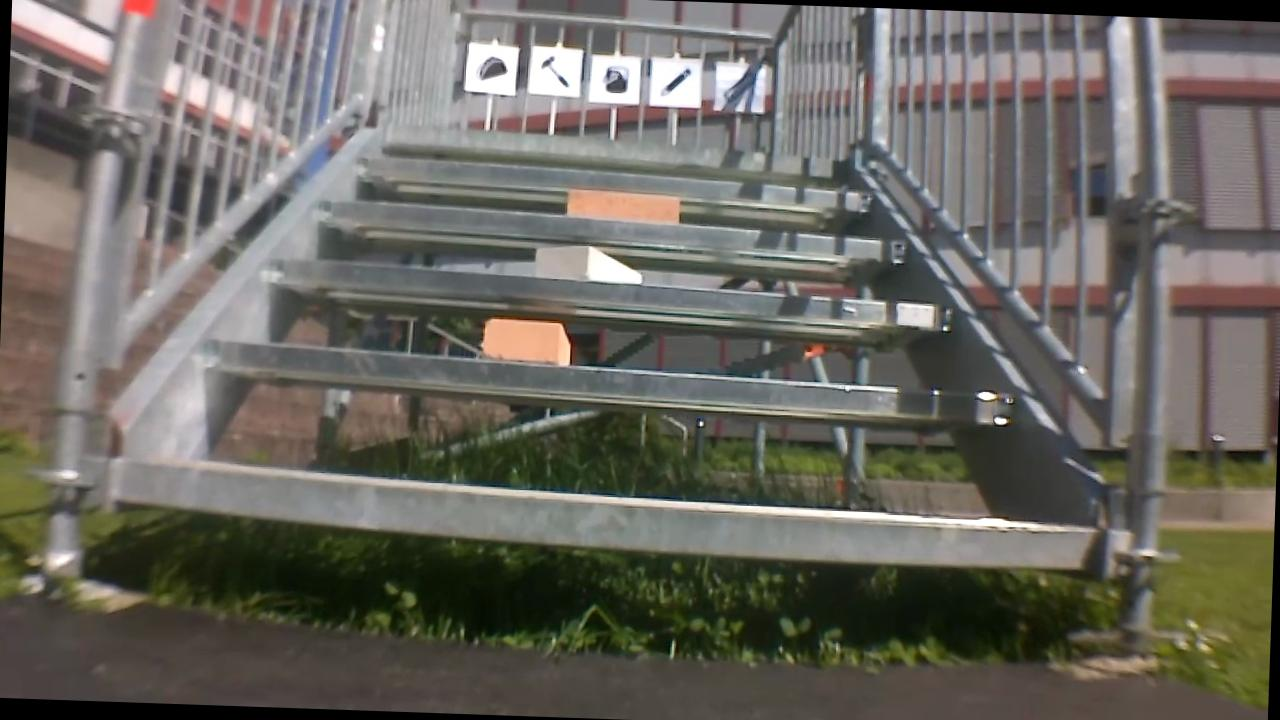brick: (530, 238, 653, 284), (471, 316, 576, 364), (564, 190, 684, 226)
edge: (193, 331, 1027, 437), (96, 488, 1099, 555), (261, 258, 960, 327), (315, 199, 922, 251), (342, 161, 874, 205), (376, 131, 862, 172)
steps: (69, 129, 1076, 578)
